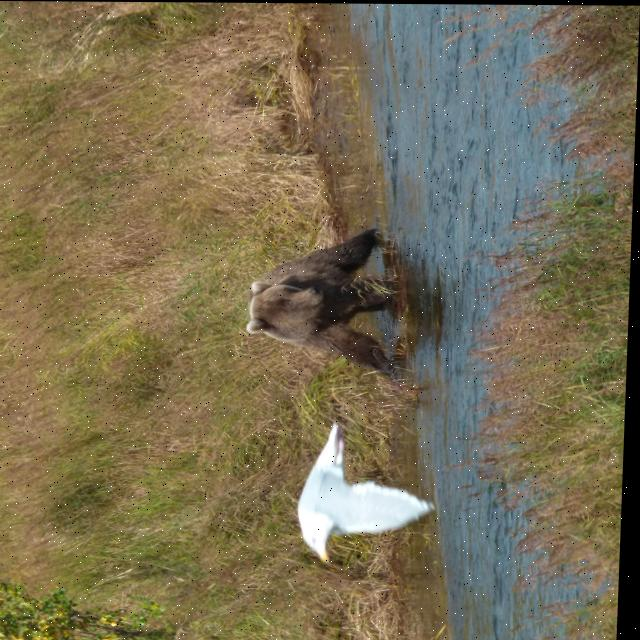bear face: (244, 228, 396, 370)
